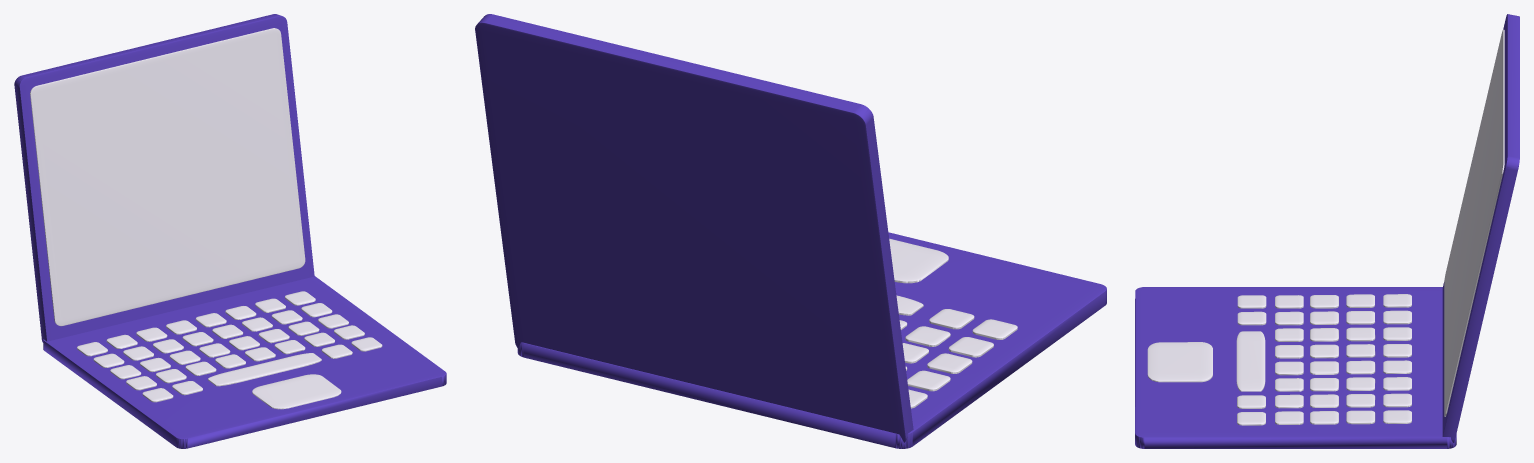
The model's file is noyt-BT8wuD9v.glb.
3 renders of one model, left to right at view 1: azimuth 30°, elevation 25°; view 2: azimuth 150°, elevation 25°; view 3: azimuth 270°, elevation 25°, orthographic. The views are drawn at different scales.
Visible parts, largest first — view 1: Cube.008; view 2: Cube.008; view 3: Cube.008.
Boxes of the visible parts, box(x1,y1,x2,y2) form: Cube.008: box(14, 14, 446, 448); Cube.008: box(475, 14, 1106, 448); Cube.008: box(1135, 14, 1519, 448).
Bounding box in the file's own units: 2.01 × 1.79 × 2.17.
